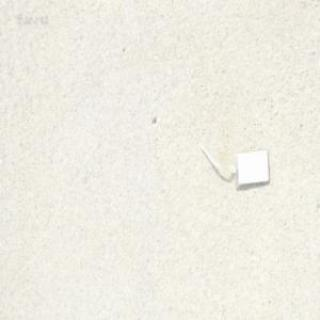LuggageTagtrack_idkeyframe: (195, 139, 270, 189)
